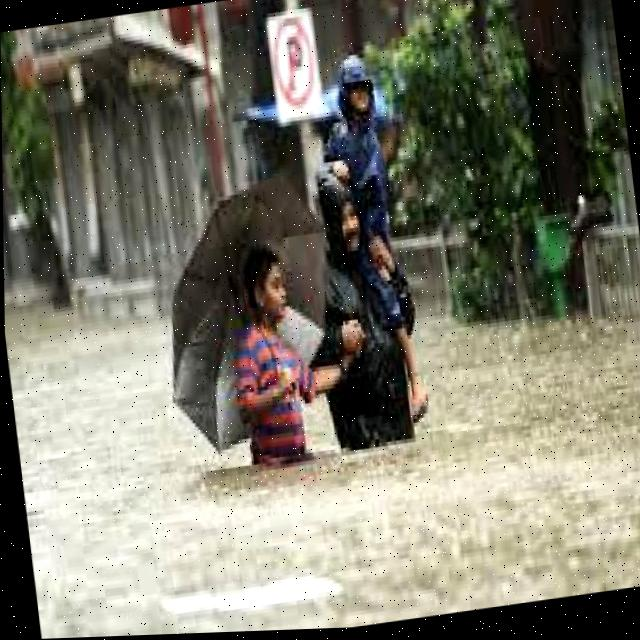civilian: (310, 42, 434, 429), (292, 163, 453, 449), (206, 238, 330, 468)
